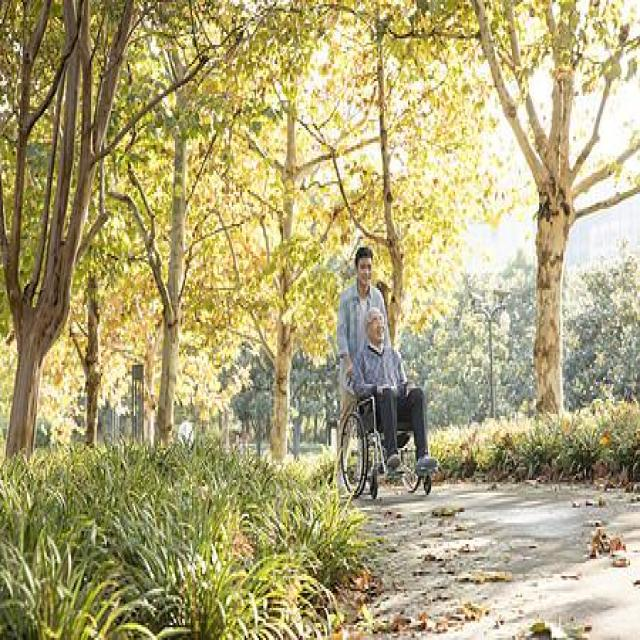wheelchairs: (329, 373, 438, 501)
